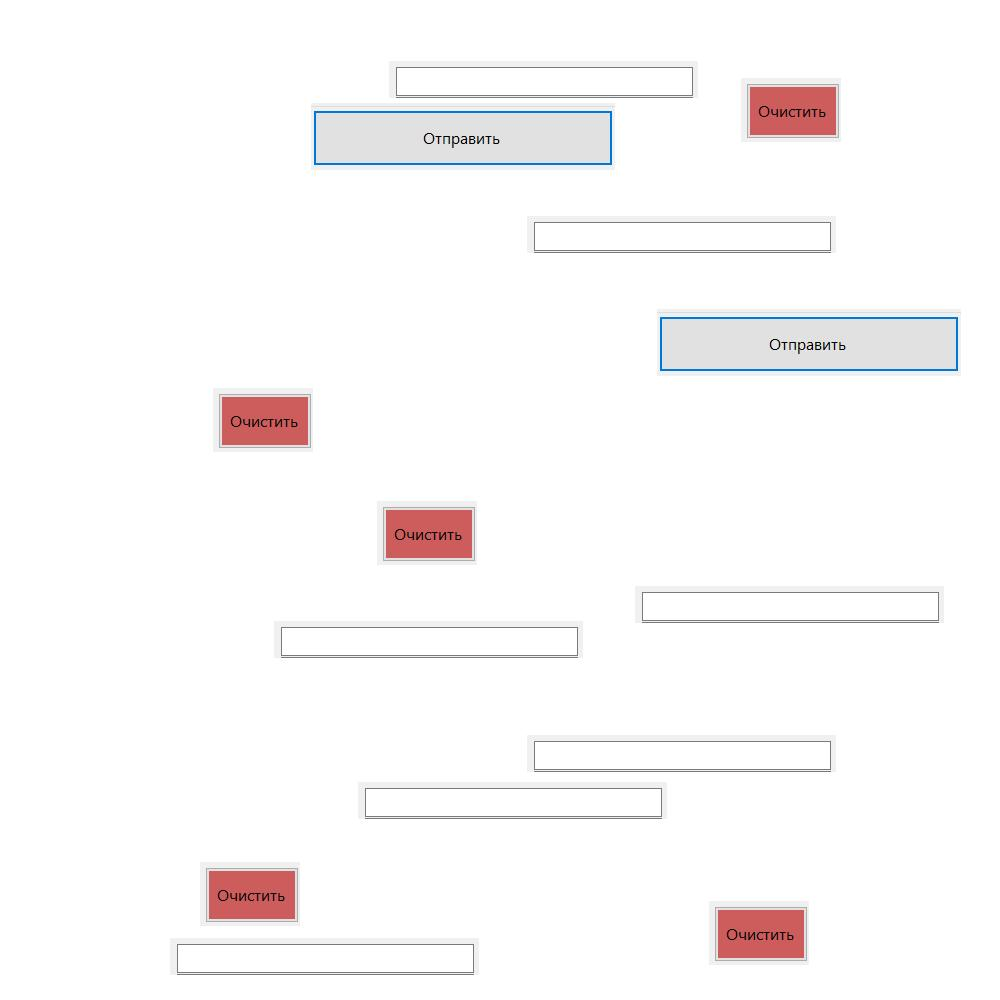Button: (311, 103, 615, 170), (657, 309, 961, 376), (200, 862, 300, 926), (377, 501, 477, 565), (741, 78, 841, 142), (709, 901, 809, 965), (213, 388, 313, 452)
EditText-: (527, 735, 836, 772), (635, 586, 944, 623), (358, 782, 667, 819), (389, 61, 698, 98), (527, 216, 836, 253), (170, 938, 479, 975), (274, 621, 583, 658)
